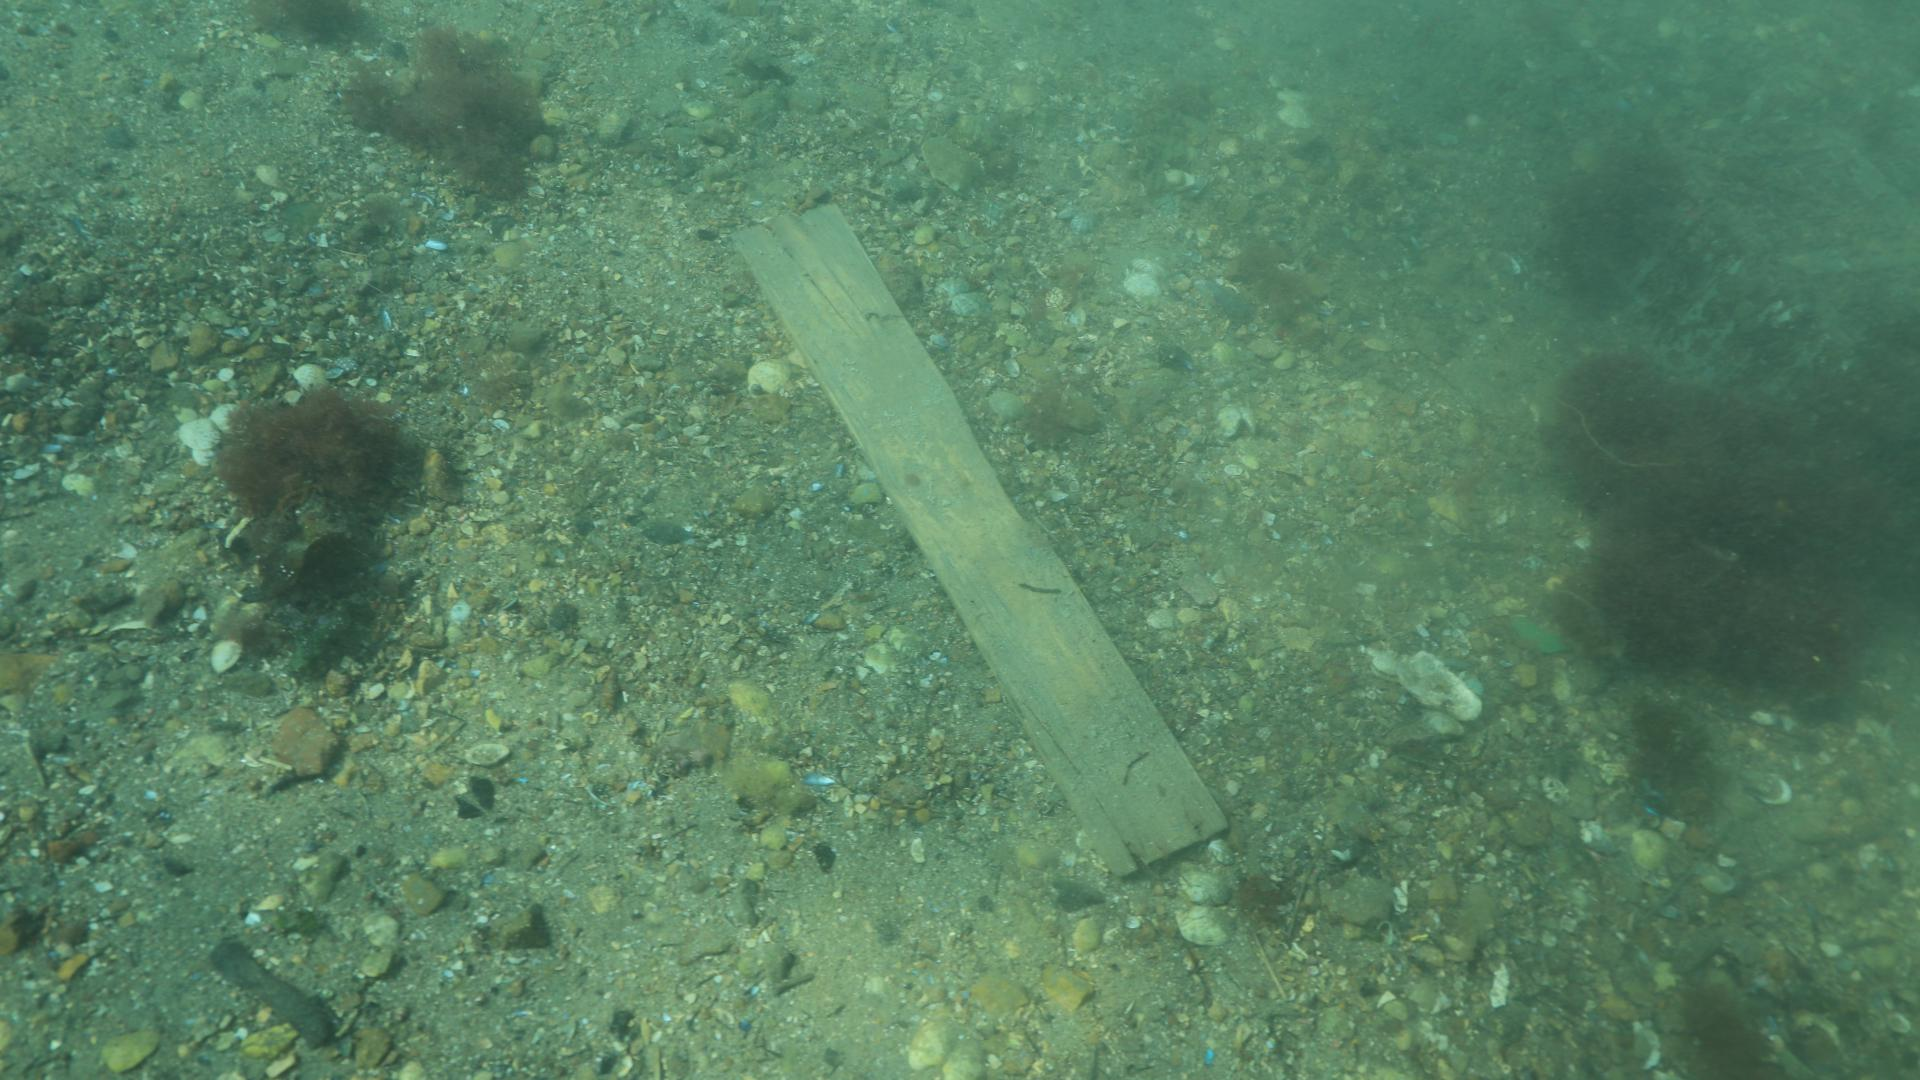wood: (724, 196, 1234, 881)
